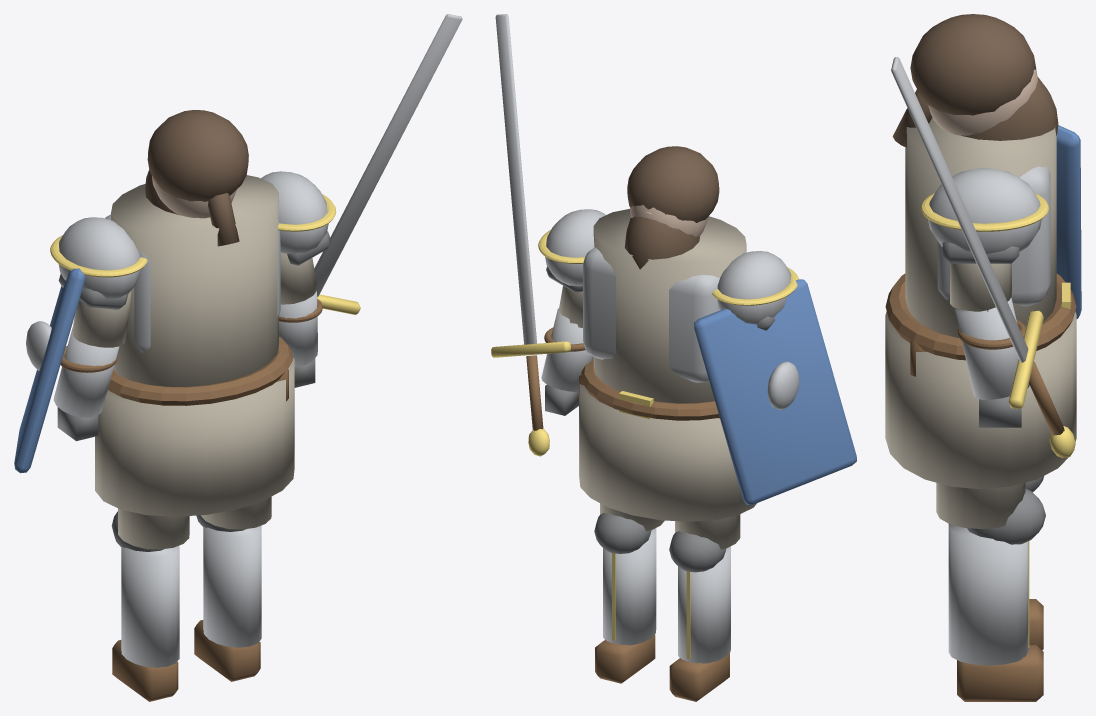
Rendered from Warrior_Medieval.fbx.
3 renders of one model, left to right at view 1: azimuth 30°, elevation 25°; view 2: azimuth 150°, elevation 25°; view 3: azimuth 270°, elevation 25°, orthographic. The views are drawn at different scales.
Visible parts, largest first — view 1: Armor_Gambeson_Tunic, Armor_Gambeson_Skirt, Warrior_Hair, Armor_Greave_Right, Armor_Greave_Left, Sword_Blade, Armor_Pauldron_Upper_Left, Armor_Heater_Shield, Armor_Belt_Main, Armor_Vambrace_Left, Armor_Pauldron_Upper_Right, Armor_Thigh_Left (+13 smaller); view 2: Armor_Heater_Shield, Armor_Gambeson_Skirt, Armor_Gambeson_Tunic, Armor_Cuirass_Chestplate, Warrior_Hair, Armor_Greave_Right, Armor_Greave_Left, Sword_Blade, Armor_Pauldron_Upper_Left, Armor_Pauldron_Upper_Right, Armor_Belt_Main, Warrior_Beard (+13 smaller); view 3: Armor_Gambeson_Skirt, Armor_Gambeson_Tunic, Armor_Greave_Right, Warrior_Hair, Armor_Pauldron_Upper_Right, Sword_Blade, Armor_Heater_Shield, Armor_Cuirass_Chestplate, Armor_Vambrace_Right, Armor_Boot_Right, Armor_Belt_Main, Armor_Thigh_Right (+13 smaller).
Boxes of the visible parts, left/top/right/bottom form: Armor_Gambeson_Tunic: left=111, top=175, right=278, bottom=386; Armor_Gambeson_Skirt: left=95, top=357, right=294, bottom=516; Warrior_Hair: left=147, top=110, right=248, bottom=201; Armor_Greave_Right: left=203, top=525, right=261, bottom=647; Armor_Greave_Left: left=121, top=546, right=179, bottom=667; Sword_Blade: left=314, top=14, right=462, bottom=296; Armor_Pauldron_Upper_Left: left=58, top=217, right=140, bottom=298; Armor_Heater_Shield: left=14, top=268, right=85, bottom=473; Armor_Belt_Main: left=108, top=337, right=292, bottom=405; Armor_Vambrace_Left: left=53, top=328, right=119, bottom=417; Armor_Pauldron_Upper_Right: left=261, top=171, right=328, bottom=253; Armor_Thigh_Left: left=118, top=508, right=189, bottom=549; Armor_Heater_Shield: left=694, top=279, right=856, bottom=504; Armor_Gambeson_Skirt: left=579, top=383, right=756, bottom=521; Armor_Gambeson_Tunic: left=593, top=209, right=746, bottom=403; Armor_Cuirass_Chestplate: left=583, top=247, right=719, bottom=382; Warrior_Hair: left=627, top=146, right=719, bottom=222; Armor_Greave_Right: left=603, top=528, right=656, bottom=645; Armor_Greave_Left: left=678, top=546, right=730, bottom=663; Sword_Blade: left=495, top=14, right=536, bottom=344; Armor_Pauldron_Upper_Left: left=717, top=251, right=791, bottom=324; Armor_Pauldron_Upper_Right: left=545, top=209, right=605, bottom=286; Armor_Belt_Main: left=580, top=358, right=719, bottom=420; Warrior_Beard: left=624, top=216, right=699, bottom=269; Armor_Gambeson_Skirt: left=885, top=311, right=1076, bottom=489; Armor_Gambeson_Tunic: left=905, top=117, right=1056, bottom=337; Armor_Greave_Right: left=948, top=524, right=1028, bottom=665; Warrior_Hair: left=910, top=14, right=1035, bottom=115; Armor_Pauldron_Upper_Right: left=928, top=168, right=1041, bottom=254; Sword_Blade: left=891, top=57, right=1028, bottom=362; Armor_Heater_Shield: left=1056, top=125, right=1081, bottom=318; Armor_Cuirass_Chestplate: left=937, top=166, right=1050, bottom=306; Armor_Vambrace_Right: left=954, top=297, right=1029, bottom=399; Armor_Boot_Right: left=957, top=645, right=1043, bottom=701; Armor_Belt_Main: left=885, top=273, right=1076, bottom=360; Armor_Thigh_Right: left=936, top=482, right=1025, bottom=528.
Bounding box in the file's own units: 1.44 × 2.1 × 0.5067.
